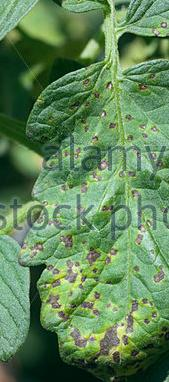Tomato Septoria leaf spot: (21, 56, 169, 382)
